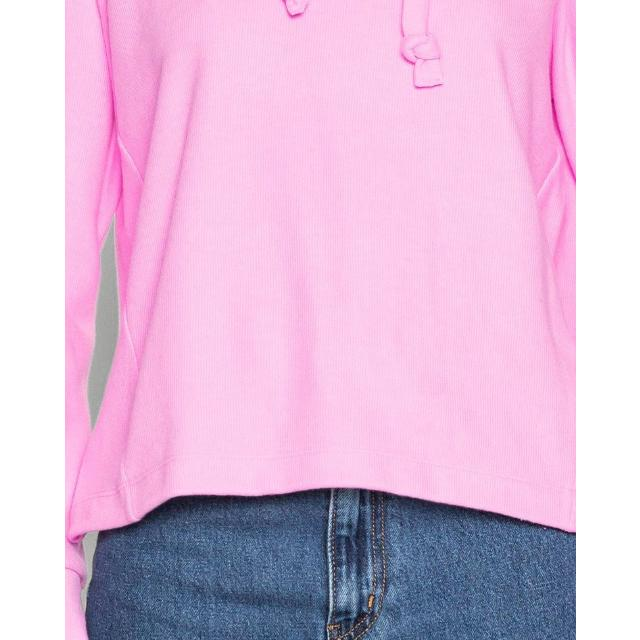denim: (139, 518, 521, 640)
